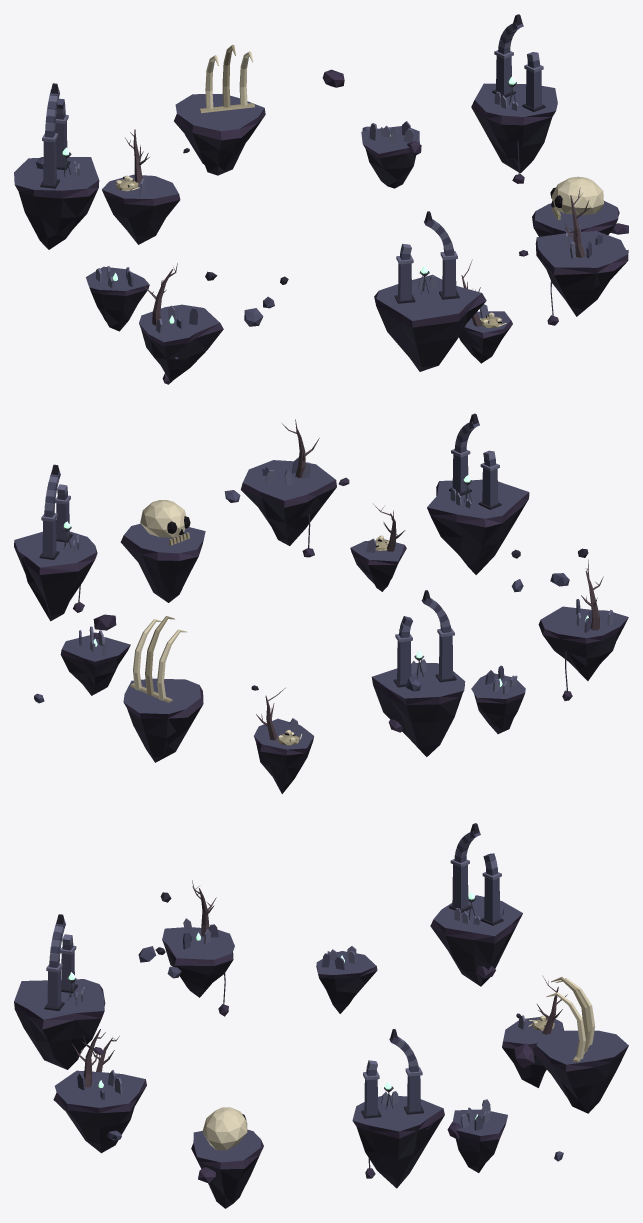
The model's file is Totenreich_Backdrop.fbx.
The picture shows the model from 3 angles, top to bottom: view 1: azimuth 30°, elevation 25°; view 2: azimuth 150°, elevation 25°; view 3: azimuth 270°, elevation 25°; orthographic projection. The views are drawn at different scales.
Parts seen in each view (by area): view 1: Totenreich_Backdrop; view 2: Totenreich_Backdrop; view 3: Totenreich_Backdrop.
Boxes of the visible parts, box(x1,y1,x2,y2) form: Totenreich_Backdrop: box(14, 14, 628, 384); Totenreich_Backdrop: box(14, 413, 628, 793); Totenreich_Backdrop: box(14, 823, 628, 1208).
Bounding box in the file's own units: 63.9 × 25.3 × 67.51.
